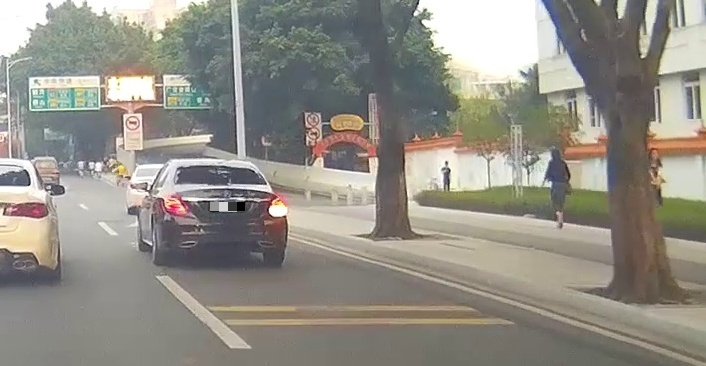L_light: (163, 192, 188, 217)
R_light: (266, 195, 287, 217)
T_light: (208, 166, 230, 170)
day-right: (158, 159, 287, 267)
plate_1: (210, 202, 245, 212)
